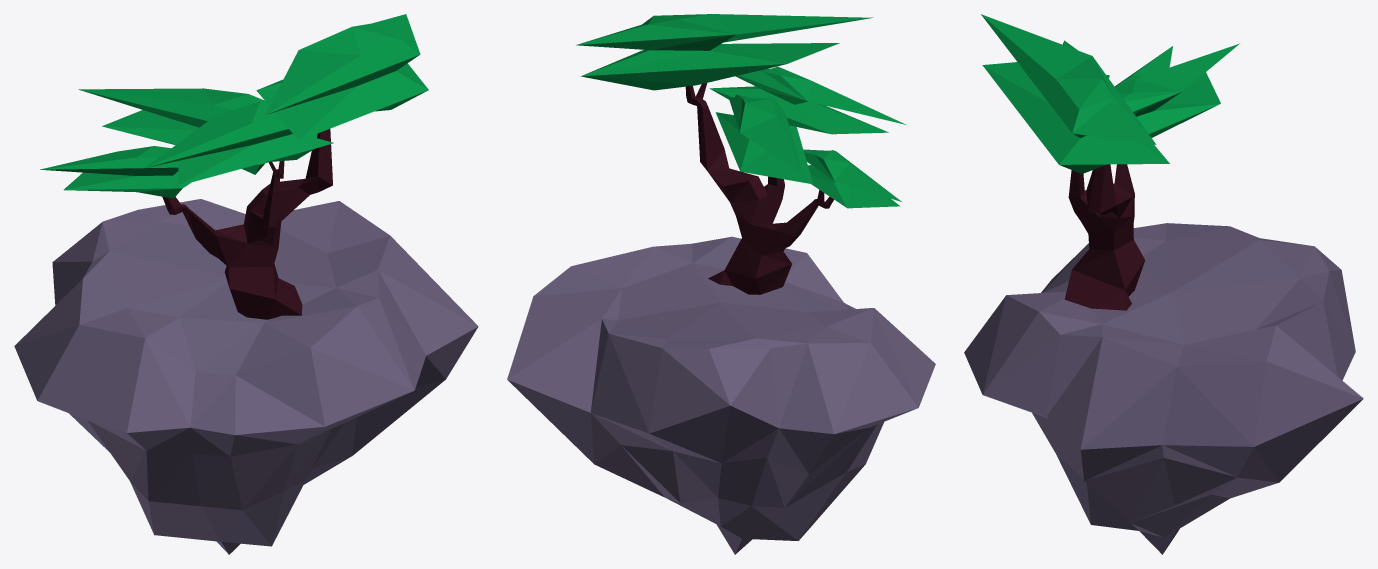
Rendered from floating_island3.dae.
The picture shows the model from 3 angles, left to right: view 1: azimuth 30°, elevation 25°; view 2: azimuth 150°, elevation 25°; view 3: azimuth 270°, elevation 25°; orthographic projection. The views are drawn at different scales.
Visible parts, largest first — view 1: large_island, foliage3, tree_trunk, foliage2, foliage0_001, foliage0; view 2: large_island, foliage3, tree_trunk, foliage0_001, foliage2, foliage0; view 3: large_island, foliage3, tree_trunk, foliage0_001, foliage0.
Boxes of the visible parts, left/top/right/bottom form: large_island: left=14, top=199, right=478, bottom=554; foliage3: left=256, top=14, right=428, bottom=140; tree_trunk: left=162, top=129, right=332, bottom=319; foliage2: left=145, top=100, right=317, bottom=185; foliage0_001: left=78, top=88, right=333, bottom=174; foliage0: left=40, top=146, right=191, bottom=198; large_island: left=507, top=236, right=935, bottom=554; foliage3: left=576, top=14, right=873, bottom=90; tree_trunk: left=685, top=83, right=833, bottom=294; foliage0_001: left=715, top=94, right=812, bottom=184; foliage2: left=709, top=66, right=906, bottom=134; foliage0: left=803, top=149, right=901, bottom=208; large_island: left=964, top=223, right=1363, bottom=554; foliage3: left=981, top=14, right=1169, bottom=173; tree_trunk: left=1064, top=164, right=1145, bottom=310; foliage0_001: left=1115, top=43, right=1239, bottom=137; foliage0: left=1114, top=46, right=1172, bottom=86.
Bounding box in the file's own units: 16.1 × 14.06 × 20.22.
